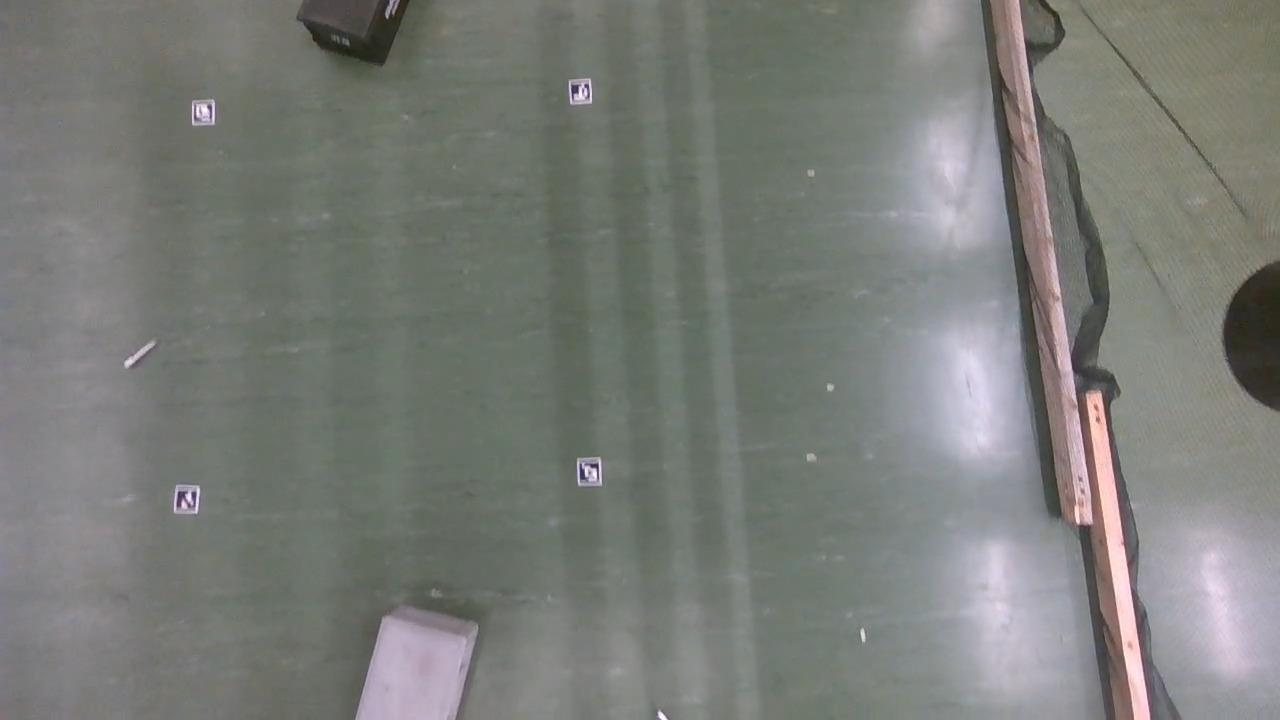probes: (123, 338, 156, 369), (655, 707, 671, 719)
rako: (355, 606, 478, 719), (295, 0, 417, 67)
